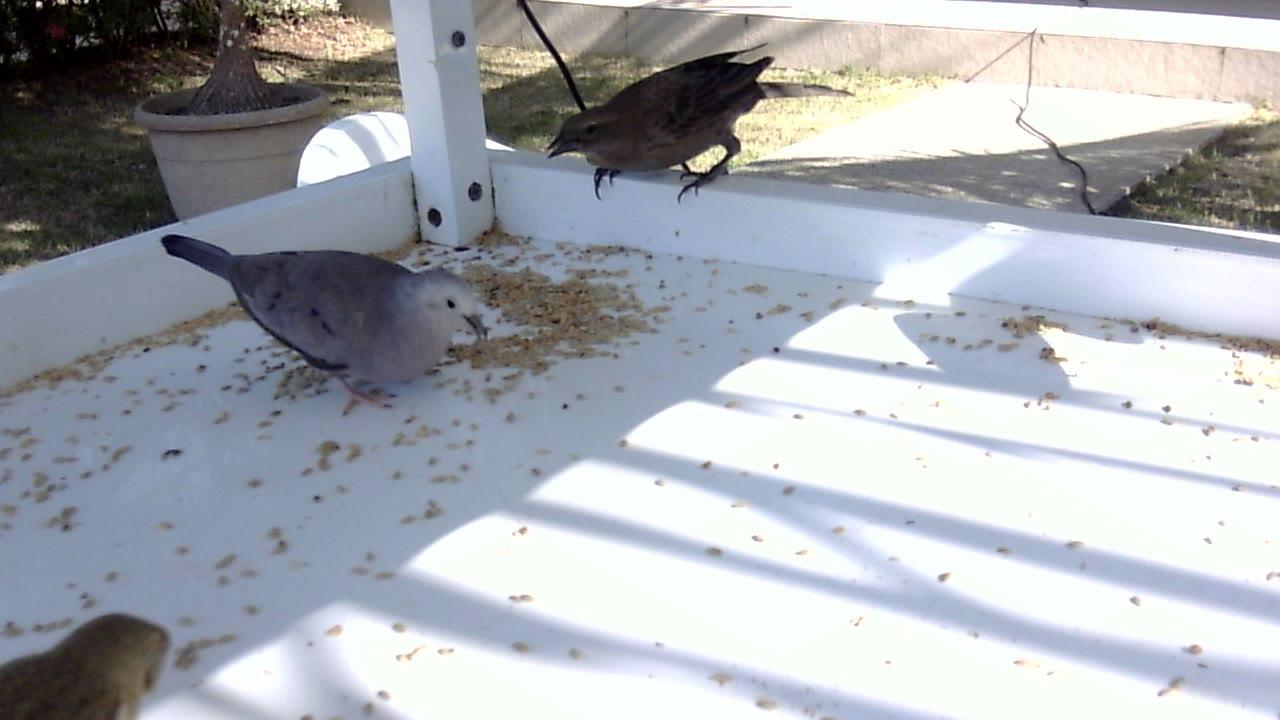canario_do_amazonas: (1, 610, 178, 720)
chupim: (543, 41, 860, 211)
rolinha: (159, 230, 489, 419)
